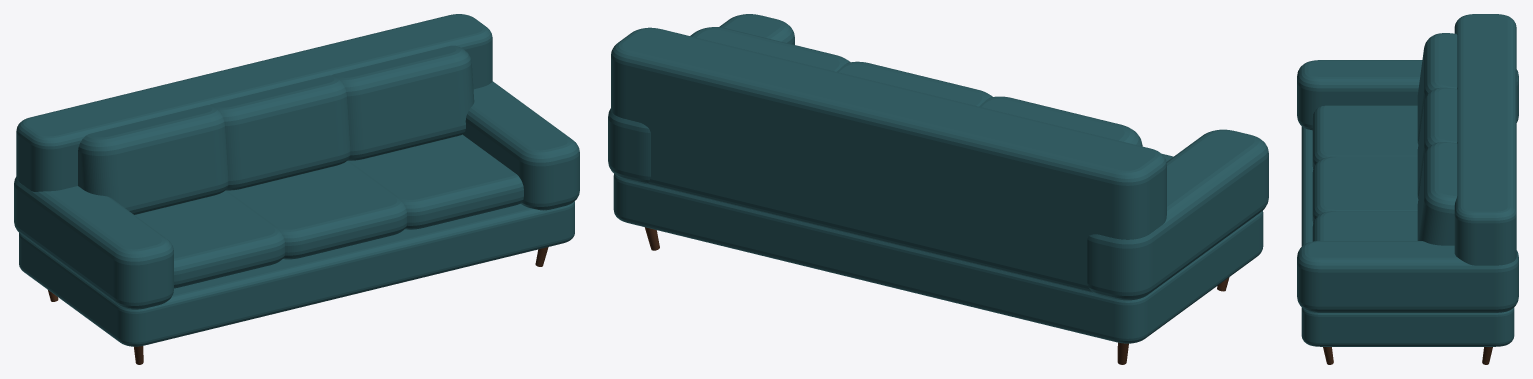
File: sofa.glb
3 views of the same model, side by side, from view 1: azimuth 30°, elevation 25°; view 2: azimuth 150°, elevation 25°; view 3: azimuth 270°, elevation 25° (orthographic). The views are drawn at different scales.
Bounding box in the file's own units: 2.2 × 0.8033 × 1.
